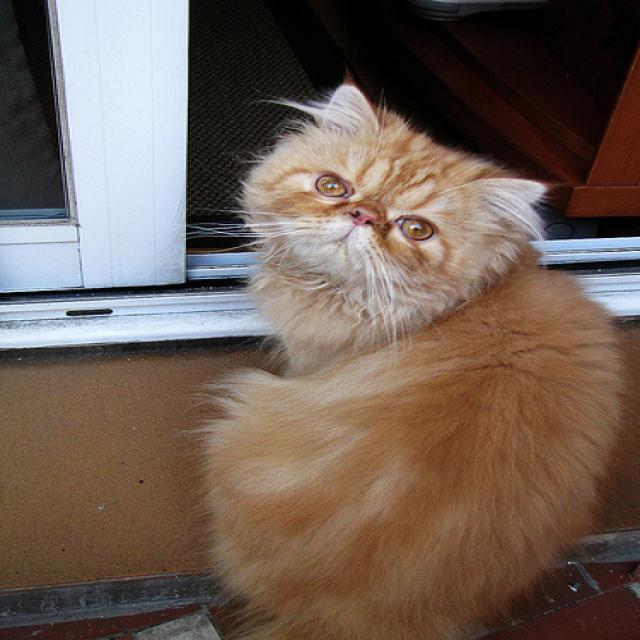Persian: (234, 71, 557, 325)
